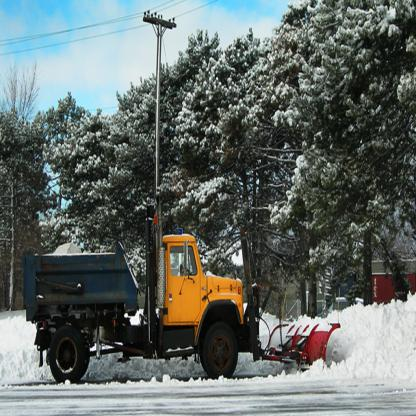Truck: (25, 195, 260, 377)
